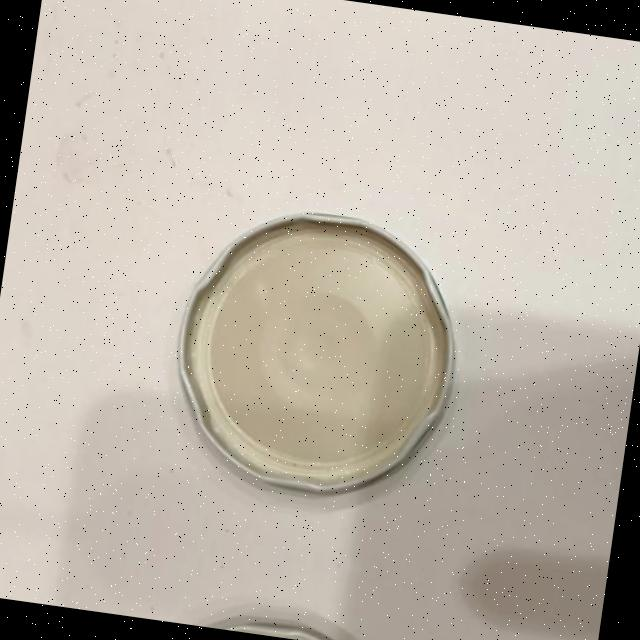Metal: (154, 174, 477, 529), (135, 585, 418, 640)
